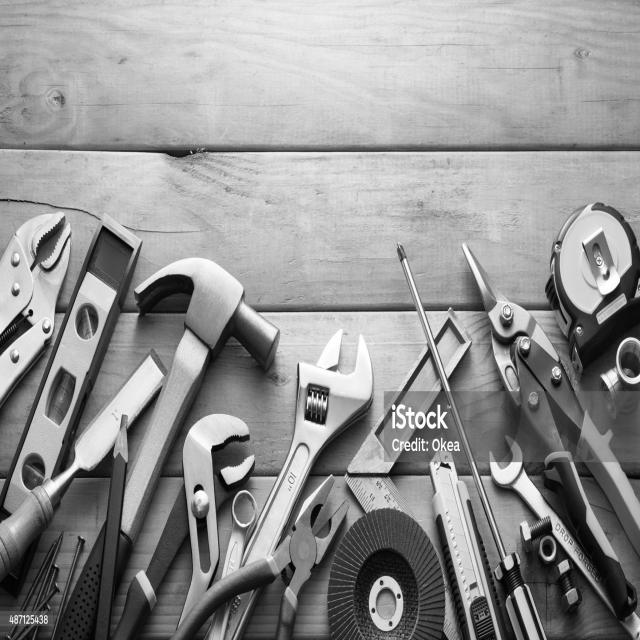angle_iron: (346, 308, 473, 639)
hammer: (54, 254, 279, 632)
level: (0, 211, 145, 632)
measuring_tape: (548, 197, 640, 379)
nail: (2, 524, 83, 635)
pencil: (94, 413, 130, 639)
pliers: (463, 243, 638, 605), (167, 481, 351, 639)
screwdriver: (394, 239, 552, 639)
utility_knife: (431, 438, 515, 639)
wrench: (217, 328, 375, 639), (109, 412, 261, 636), (492, 438, 624, 613), (200, 489, 258, 639)
